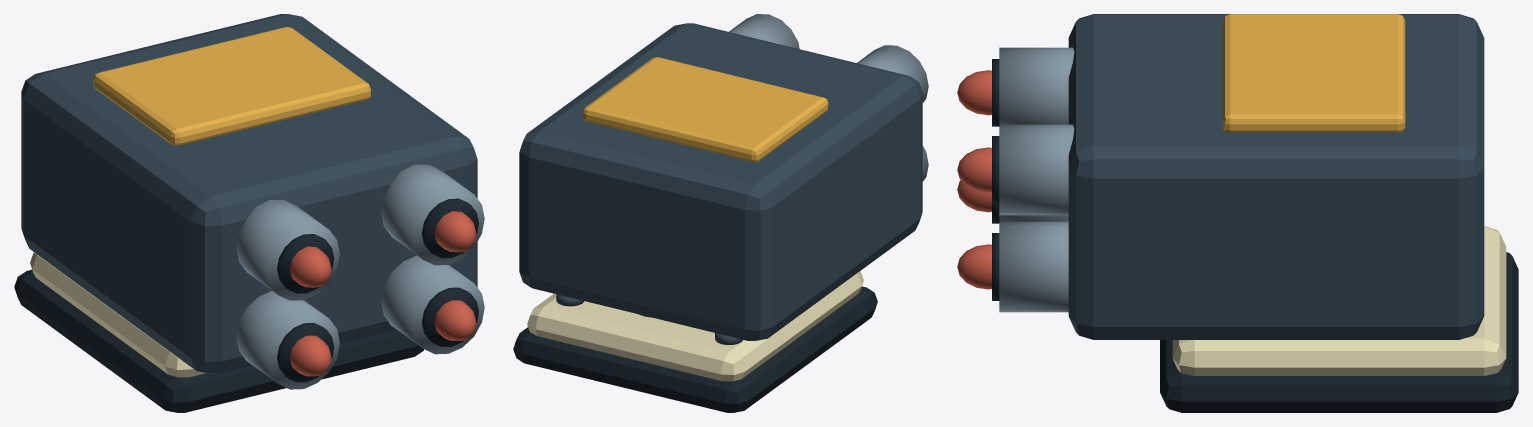
Rendered from rocket_pod.glb.
3 views of the same model, side by side, from view 1: azimuth 30°, elevation 25°; view 2: azimuth 150°, elevation 25°; view 3: azimuth 270°, elevation 25° (orthographic). The views are drawn at different scales.
Parts seen in each view (by area): view 1: PitchMesh, rocket_podMesh; view 2: PitchMesh, rocket_podMesh; view 3: PitchMesh, rocket_podMesh.
Boxes of the visible parts, x1,y1,x2,y2 form: PitchMesh: (21, 14, 484, 389); rocket_podMesh: (14, 252, 423, 412); PitchMesh: (519, 14, 928, 340); rocket_podMesh: (513, 271, 877, 412); PitchMesh: (957, 14, 1484, 339); rocket_podMesh: (1160, 226, 1518, 412).
Bounding box in the file's own units: 0.57 × 0.5025 × 0.892.
